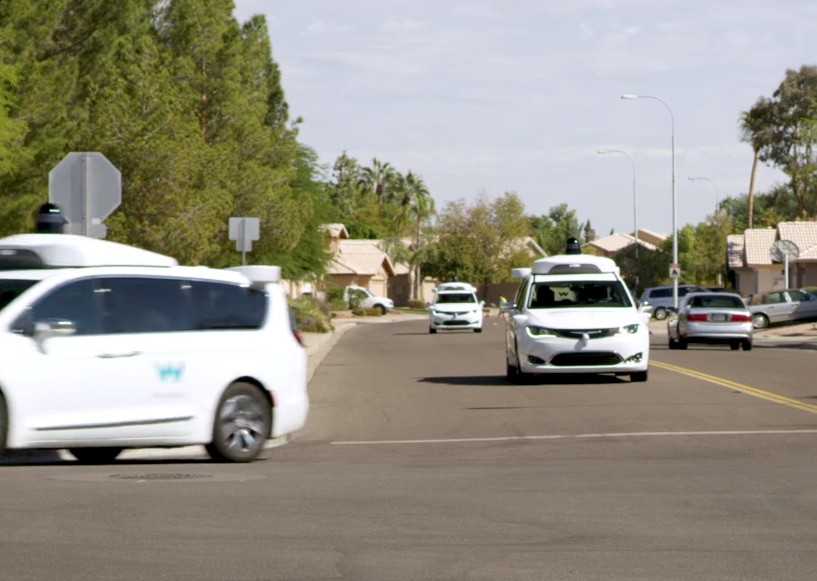car: (511, 264, 653, 383), (428, 283, 486, 335)
